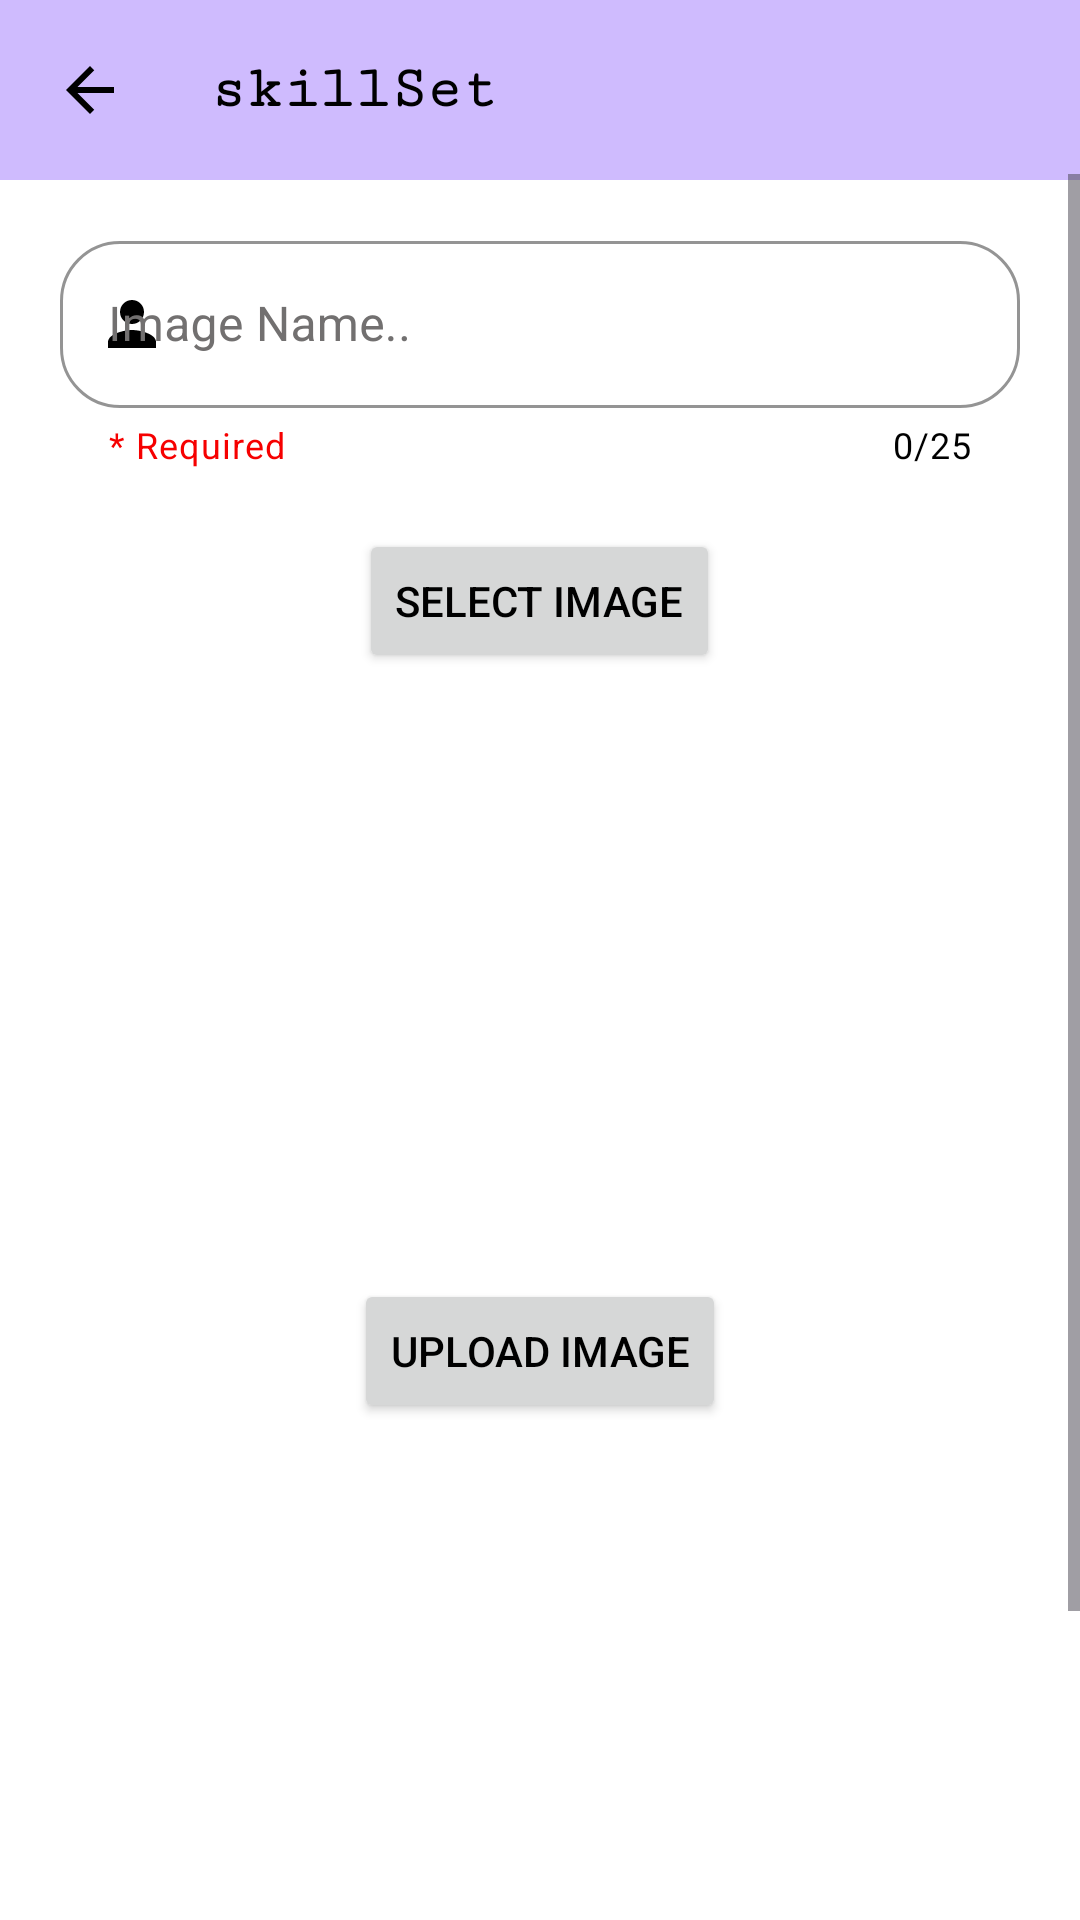

Named icons in this screenshot (1080x1920) and their centers, [x,y]:
file back: [90,90]
